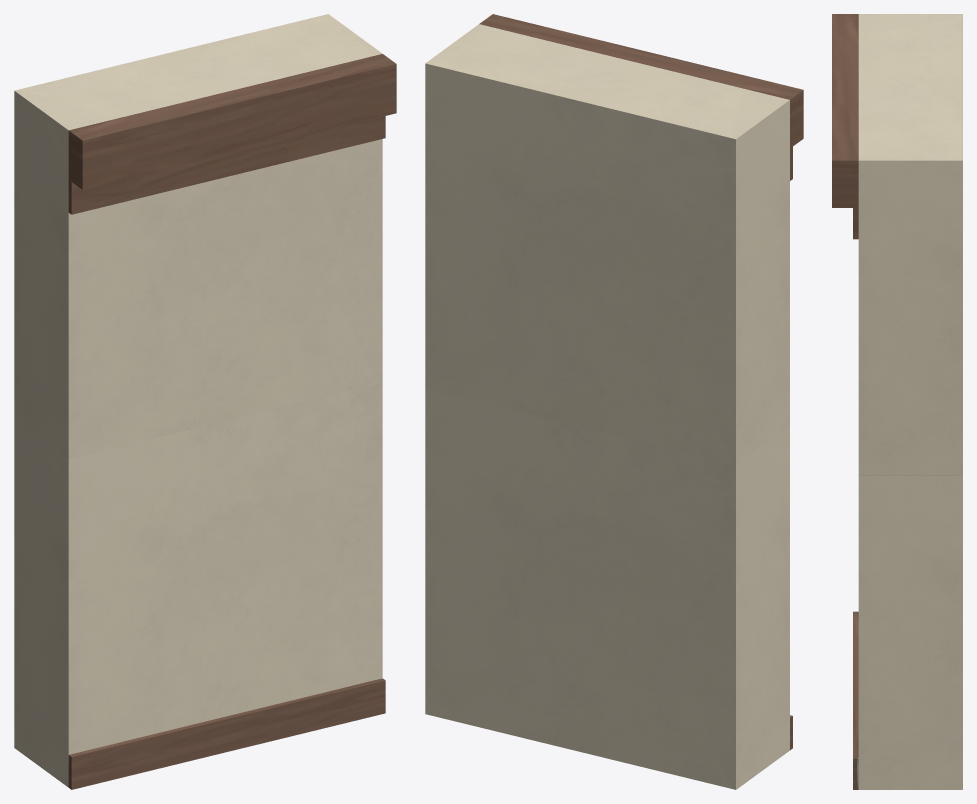
Rendered from Wall.glb.
3 views of the same model, side by side, from view 1: azimuth 30°, elevation 25°; view 2: azimuth 150°, elevation 25°; view 3: azimuth 270°, elevation 25° (orthographic). The views are drawn at different scales.
Parts seen in each view (by area): view 1: Wall; view 2: Wall; view 3: Wall.
Part boxes in pixels (<box>): Wall: <box>14,14,396,789</box>; Wall: <box>425,14,803,789</box>; Wall: <box>832,14,962,789</box>.
Bounding box in the file's own units: 2 × 4 × 0.7533.
1 material, 1 textured.
